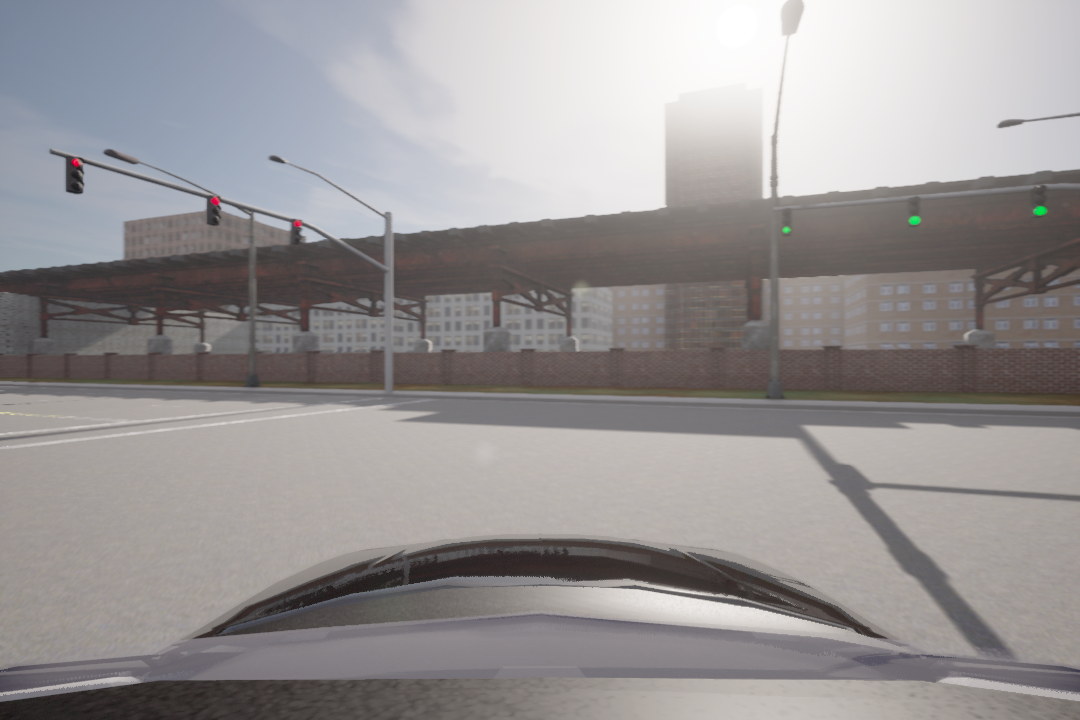TrafficLight: (63, 157, 87, 197), (202, 193, 221, 229), (1032, 183, 1049, 219), (906, 194, 923, 227), (289, 212, 302, 247), (780, 207, 792, 237)
